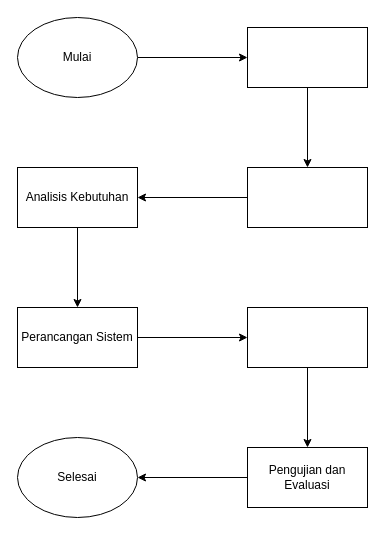
Image size: 385x535. Some labels were removed from this diagram. Here are the shapes that lost their labels. From the top down, the centre of each, then its label:
pixel 307 57: Identifikasi Masalah
pixel 307 197: Studi Literatur
pixel 307 337: Pengembangan Sistem
